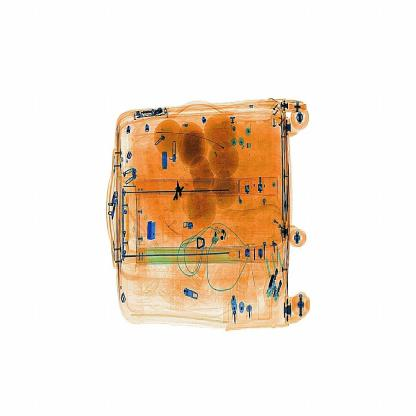gun: (166, 170, 194, 218)
